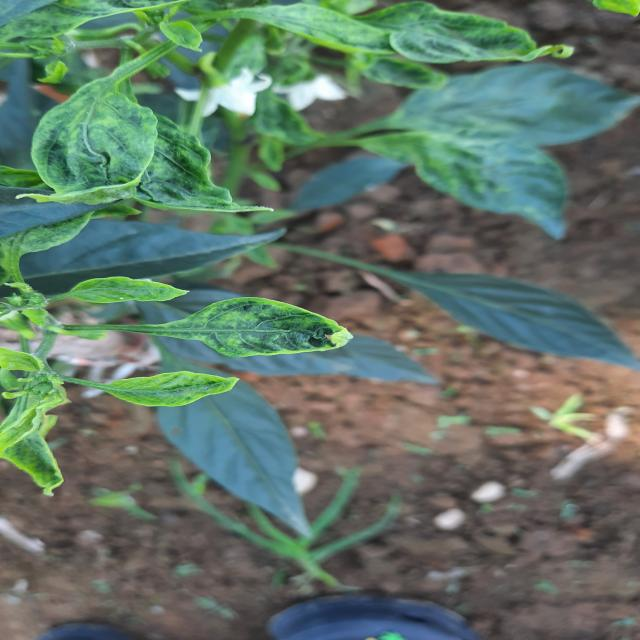thrips: (2, 72, 208, 214), (176, 283, 378, 368), (378, 0, 578, 72), (106, 368, 250, 424)
